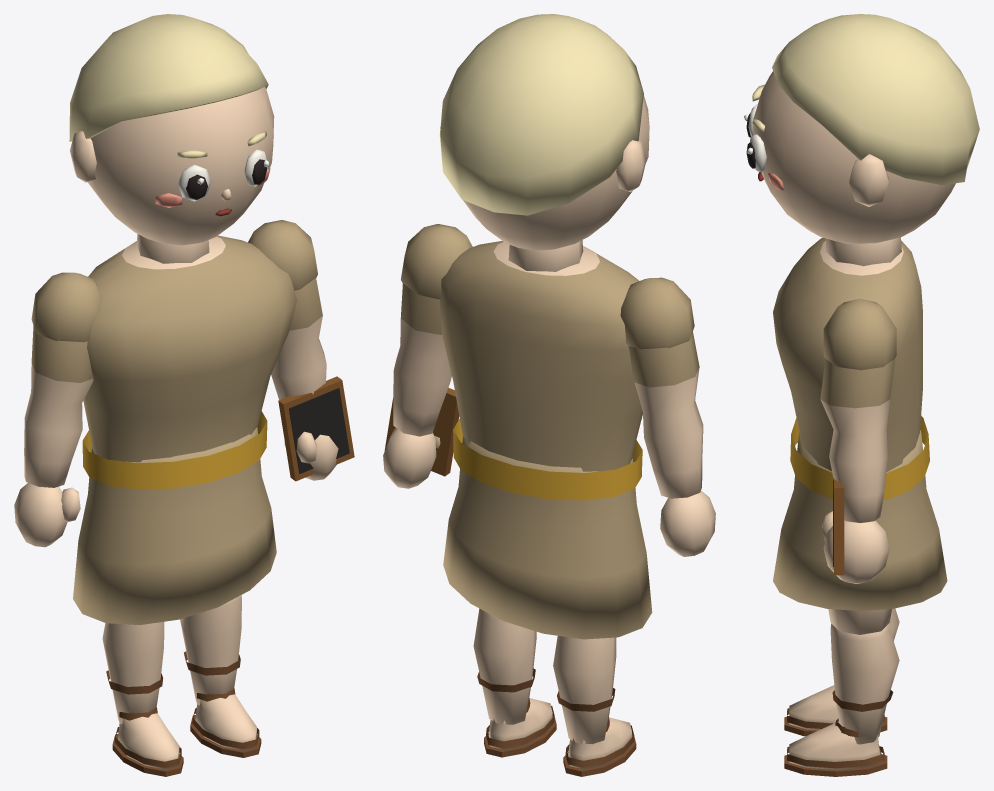
The model's file is schreiber.glb.
3 views of the same model, side by side, from view 1: azimuth 30°, elevation 25°; view 2: azimuth 150°, elevation 25°; view 3: azimuth 270°, elevation 25° (orthographic). The views are drawn at different scales.
Parts seen in each view (by area): view 1: rumpf, huefte, kopf, haare, armL, armR, knieL, knieR, itemR, augeL, augeR; view 2: rumpf, haare, huefte, armL, armR, kopf, knieL, knieR, itemR; view 3: haare, rumpf, kopf, armR, huefte, knieR, knieL, beinR, itemR, augeR.
Boxes of the visible parts, x1,y1,x2,y2 form: rumpf: (82, 235, 296, 489); huefte: (73, 427, 276, 624); kopf: (70, 86, 274, 263); haare: (69, 14, 268, 141); armL: (14, 272, 102, 547); armR: (248, 220, 338, 480); knieL: (102, 622, 183, 776); knieR: (180, 595, 261, 757); itemR: (278, 376, 354, 481); augeL: (177, 164, 211, 201); augeR: (244, 149, 268, 186); rumpf: (439, 241, 642, 500); haare: (439, 14, 643, 215); huefte: (443, 436, 652, 639); armL: (620, 277, 715, 556); armR: (383, 224, 472, 488); kopf: (440, 96, 649, 271); knieL: (553, 636, 636, 776); knieR: (473, 608, 556, 757); itemR: (384, 388, 459, 476); haare: (772, 14, 979, 184); rumpf: (773, 237, 929, 500); kopf: (753, 71, 955, 266); armR: (820, 298, 896, 583); huefte: (773, 430, 947, 610); knieR: (784, 623, 899, 776); knieL: (784, 608, 899, 736); beinR: (828, 609, 891, 634); itemR: (833, 477, 844, 575); augeR: (746, 134, 766, 171).
Size of the model in its own units: 1.09 by 2.29 by 0.6753.
